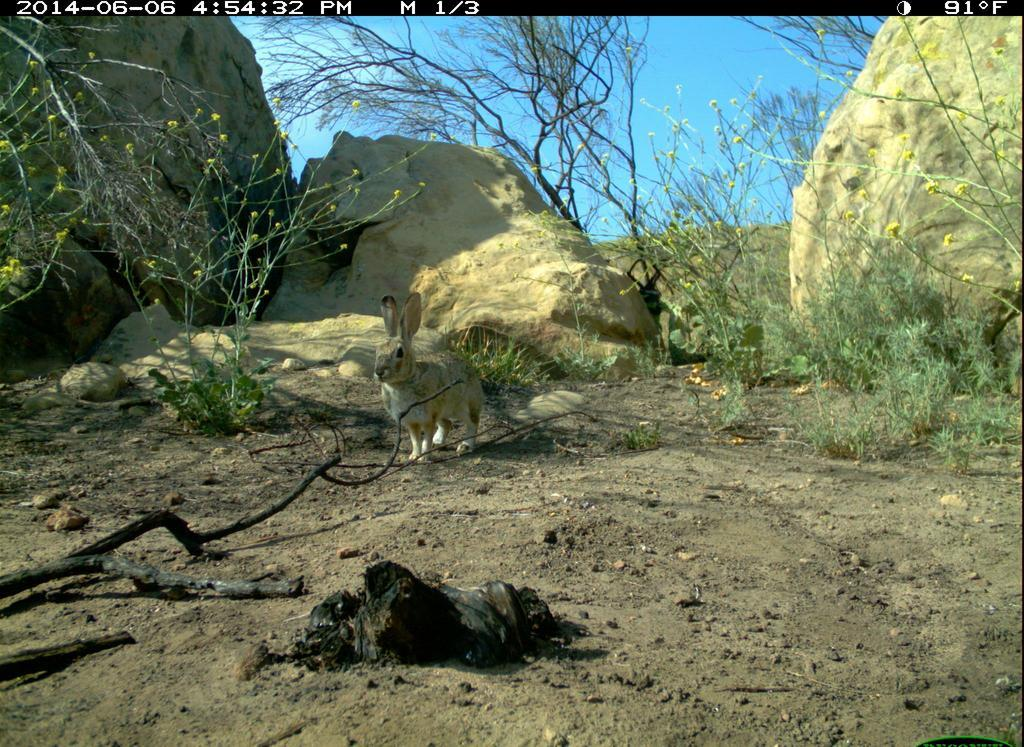rabbit: (365, 289, 493, 473)
